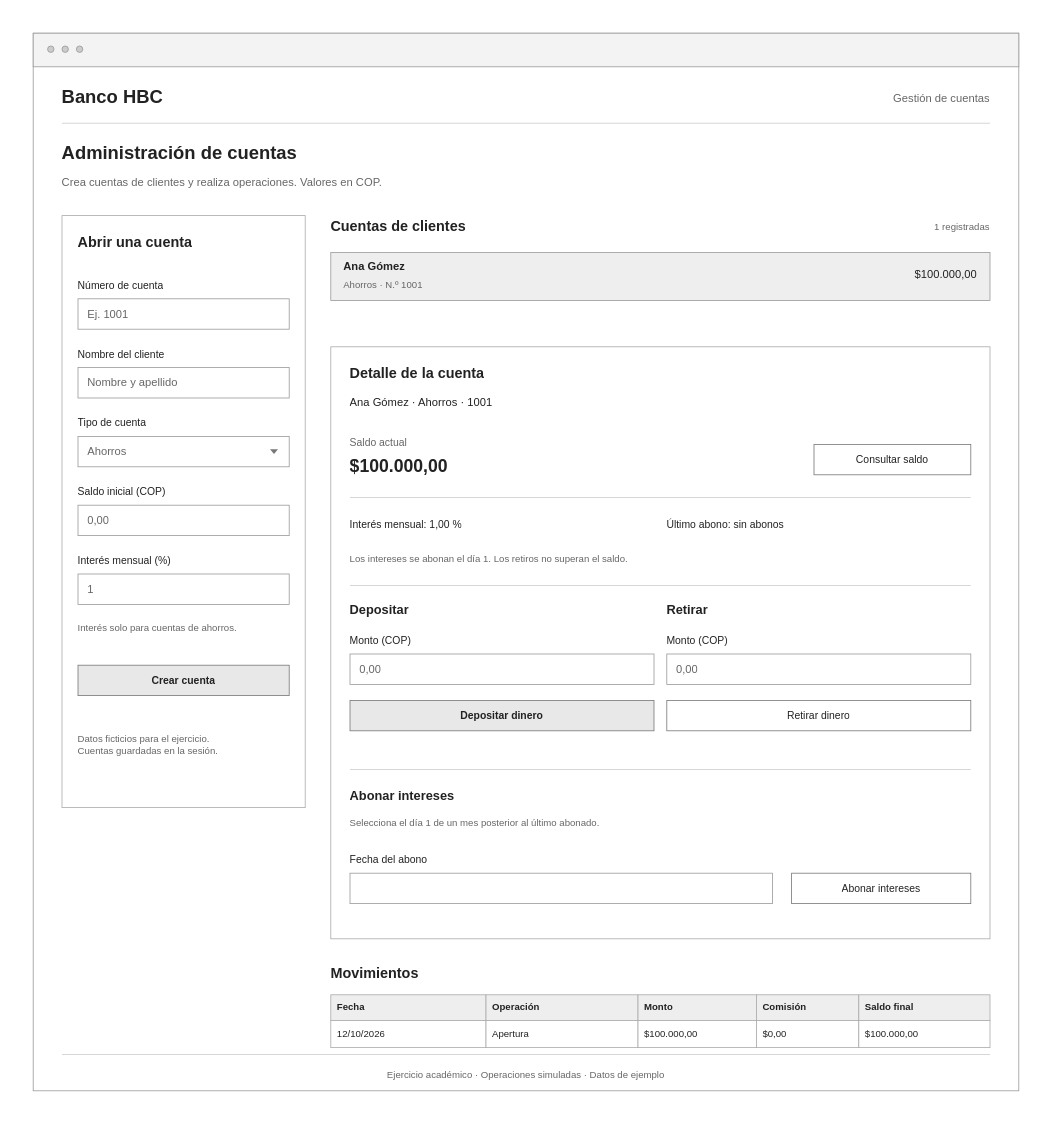
Some shapes in this 1051 by 1123 pixel diagram are drawn without their labels. Here are the shapes that lost their labels. From the top down, the centre of each, then its label:
At pixel 525 49: "Vista de escritorio · Mockup".
At pixel 560 888: "dd/mm/aaaa".
